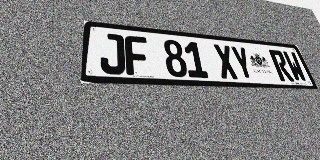1: (182, 41, 209, 78)
8: (162, 39, 189, 77)
F: (124, 35, 150, 76)
J: (100, 33, 126, 75)
R: (268, 50, 295, 82)
W: (282, 51, 308, 82)
X: (213, 44, 239, 79)
Y: (229, 46, 256, 80)
